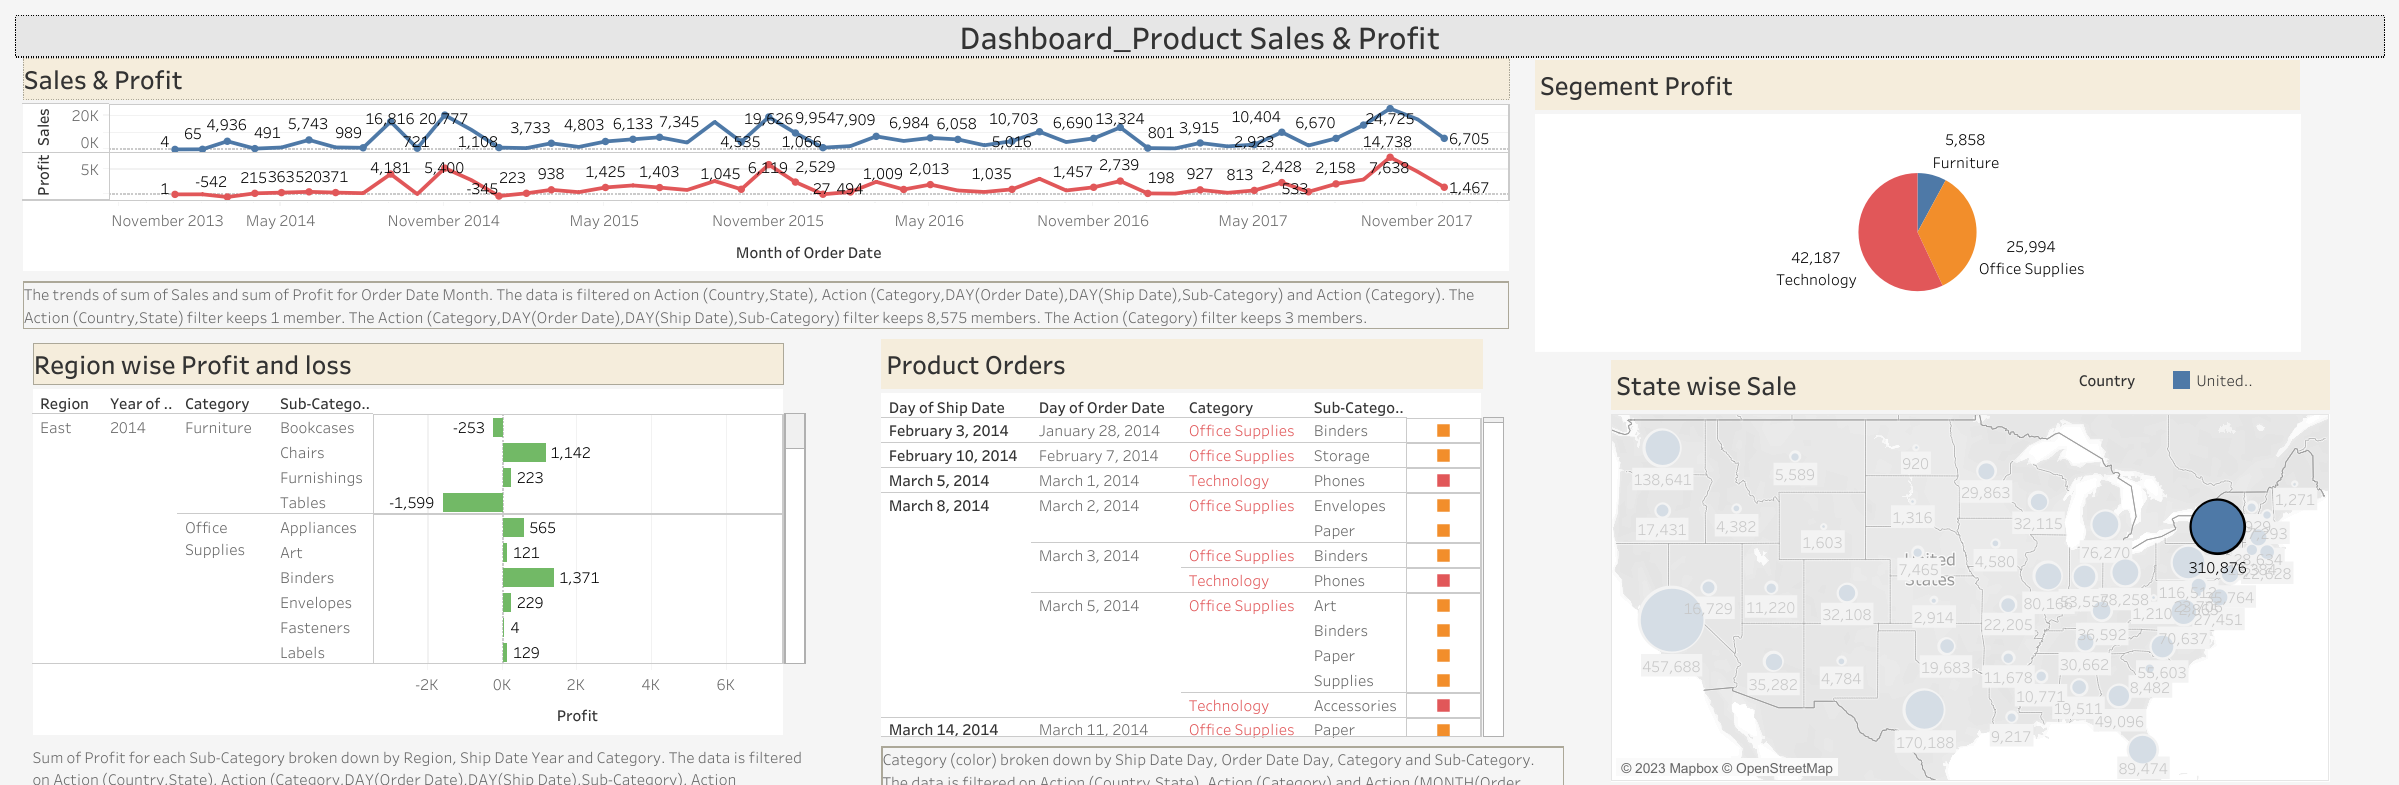

What the dashboard file says about the page in this screenshot:
{"tool":"tableau","page":{"name":"Dashboard_Product Sales & Profit ","canvas":[1000,1000],"units":"permille","ordinal":0},"visuals":[{"type":"worksheet","title":"Segement Profit ","mark":"Pie","box":[754.2,71,216.7,377.9]},{"type":"worksheet","title":"Sales & Profit","mark":"Automatic","rows":["Sales","Profit"],"cols":["Order Date"],"box":[9.4,73.4,619.8,346.6]},{"type":"worksheet","title":"State wise Sale","mark":"Automatic","box":[671.4,458.5,299.5,535.5]},{"type":"legend","title":"State wise Sale","param":"[federated.0ria9qu13gzh4f121iglm1g1papx].[none:Country:nk]","box":[866.1,466.9,72.9,51.7]}]}

Visuals, with their boxes on the dashboard's canvas, which has no fixed pixel size, in thousandths of its width and height (x1, y1, x2, y2). These are canvas units, not pixel positions in the 2399x785 screenshot, which may show the page scaled, cropped or inside an application window:
"Segement Profit " worksheet (Pie marks): {"x1": 754, "y1": 71, "x2": 971, "y2": 449}
"Sales & Profit" worksheet: {"x1": 9, "y1": 73, "x2": 629, "y2": 420}
"State wise Sale" worksheet: {"x1": 671, "y1": 458, "x2": 971, "y2": 994}
"State wise Sale" legend: {"x1": 866, "y1": 467, "x2": 939, "y2": 519}
